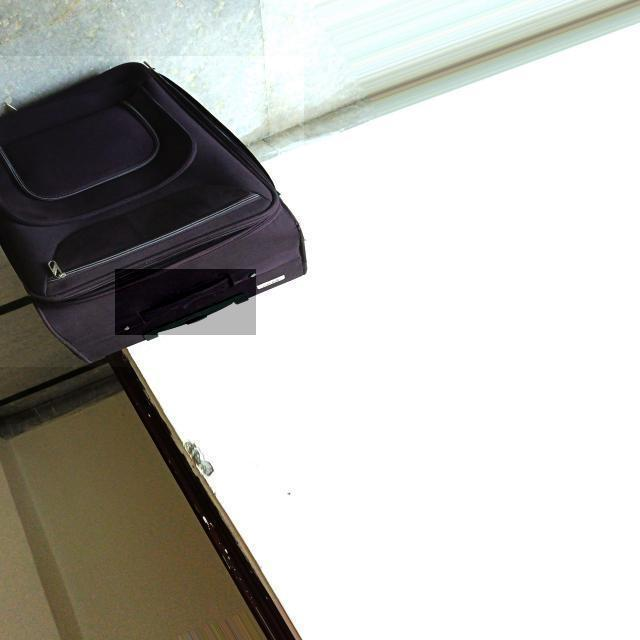Suitcase: (1, 62, 310, 347)
